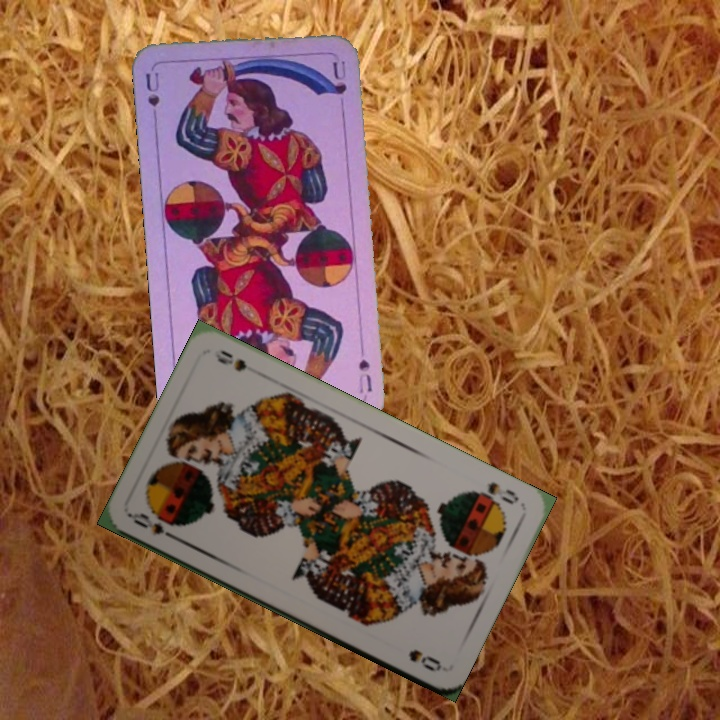SO: (129, 508, 183, 545), (468, 477, 522, 508)
SU: (141, 68, 162, 127), (355, 355, 375, 402)
